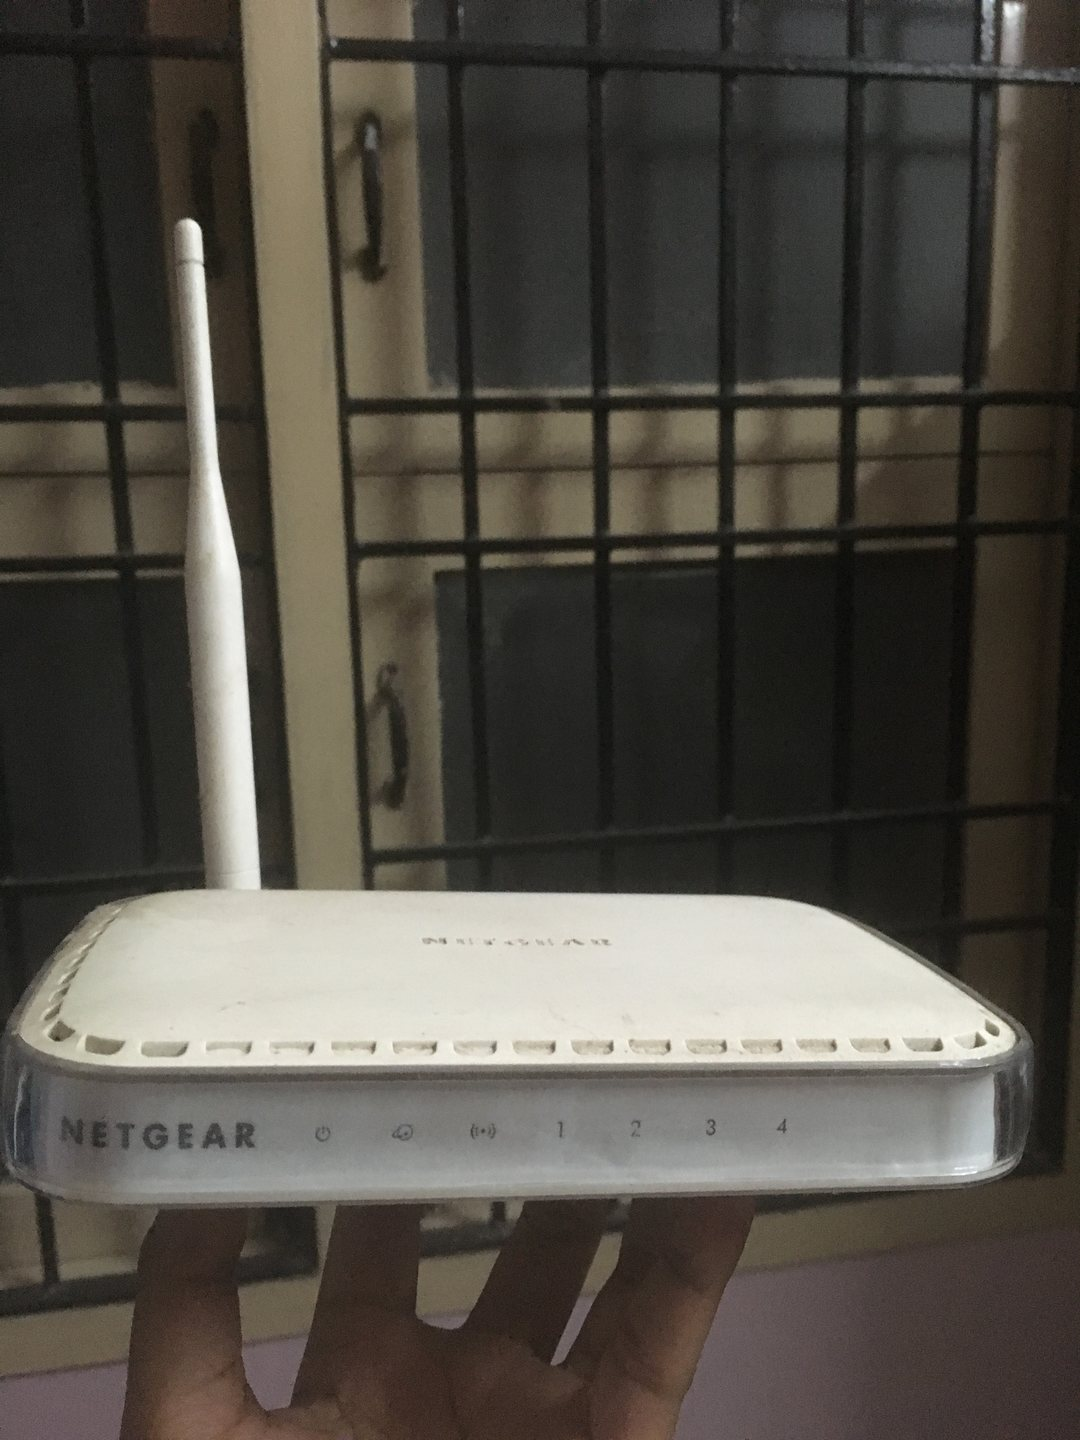NETGEAR: (52, 1107, 263, 1159)
modem: (1, 1039, 1051, 1197)
